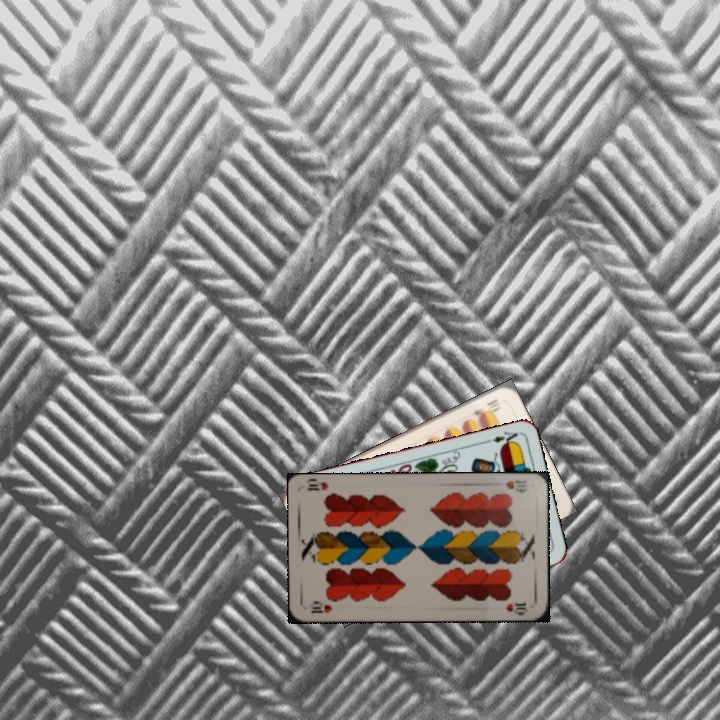E10: (470, 395, 502, 419)
EA: (481, 427, 521, 449)
H10: (502, 476, 530, 495), (305, 598, 334, 616)
